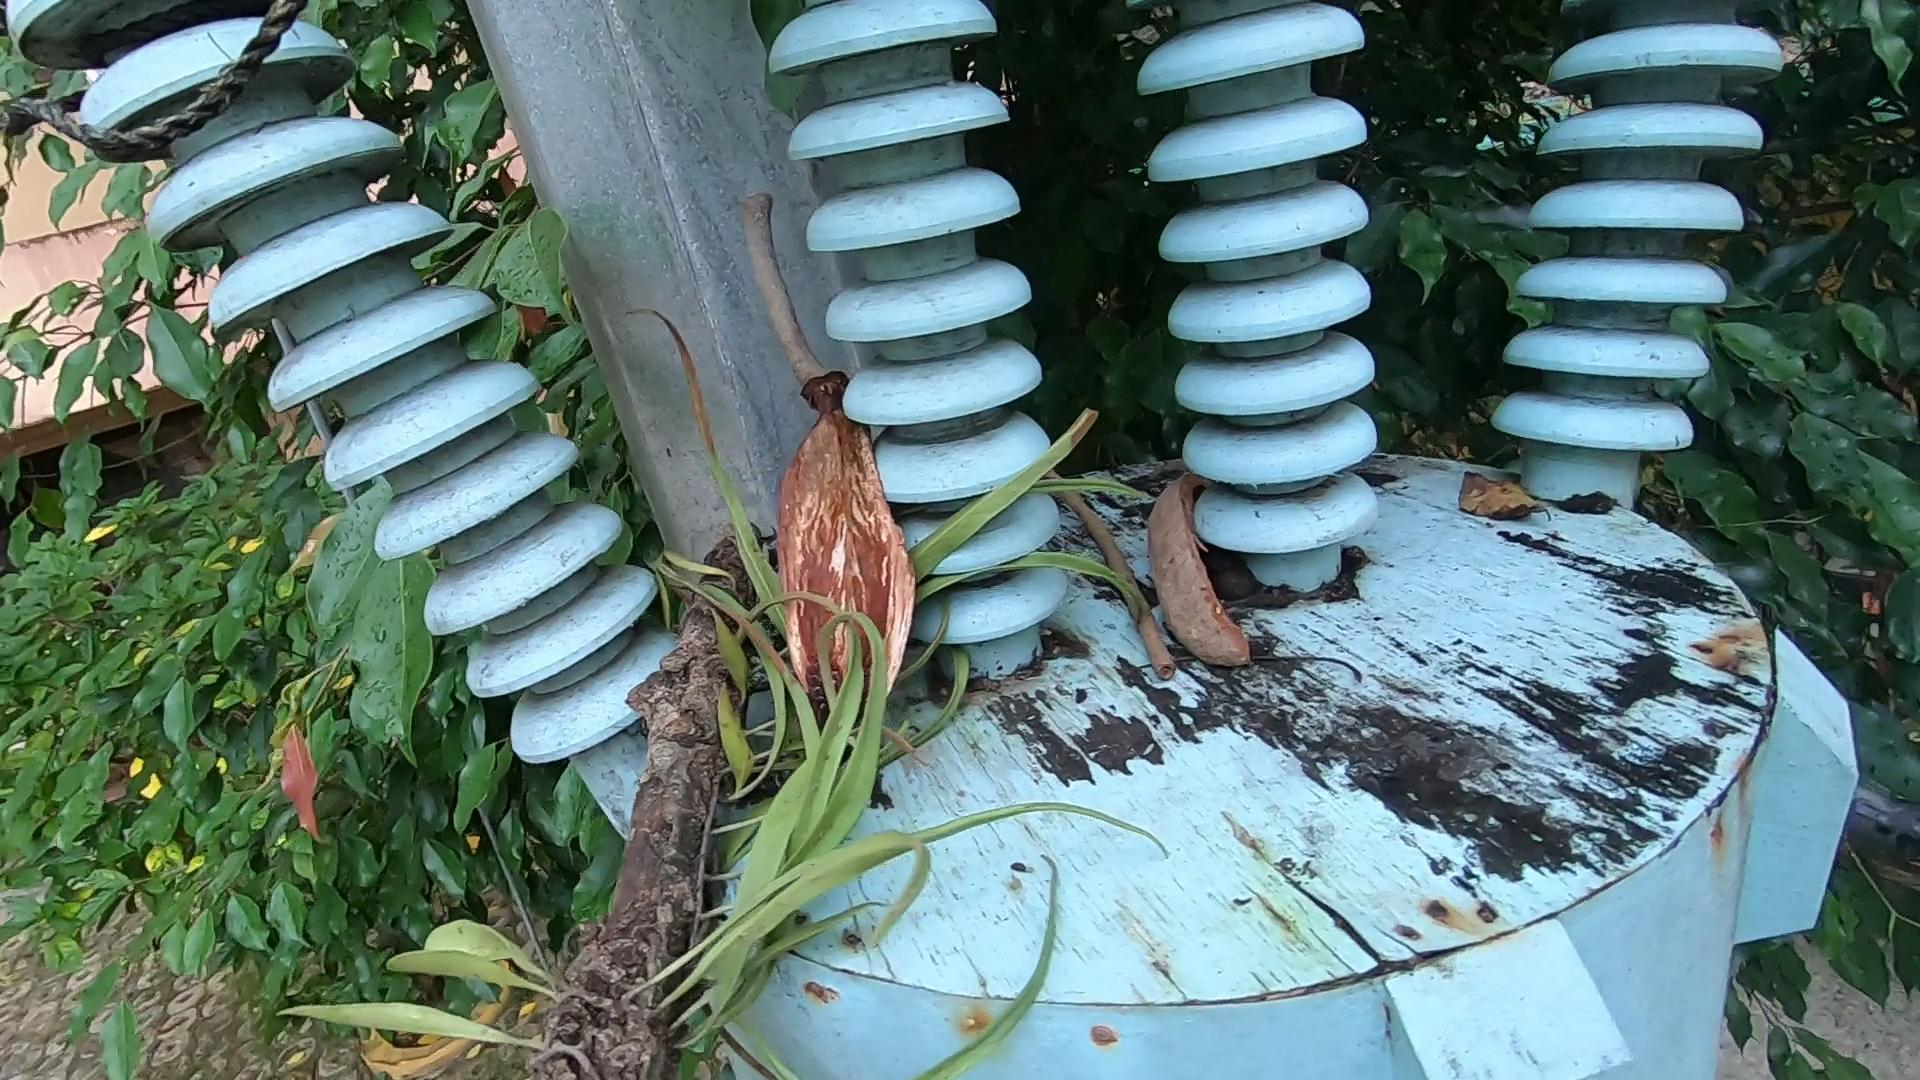branch with leaves: (458, 401, 783, 1001)
leaf: (1453, 455, 1551, 574)
mahogany fruit: (775, 413, 951, 702), (1141, 480, 1278, 765)
tree branch: (1021, 425, 1228, 782), (727, 161, 887, 448)
